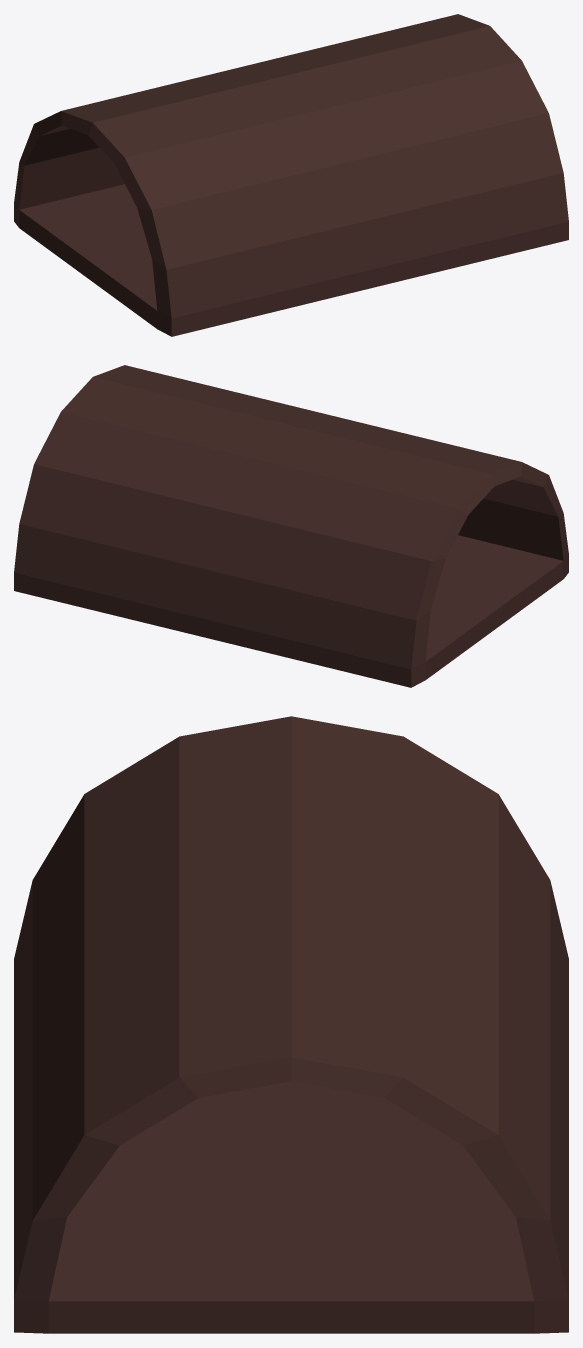
Rendered from Hangar.glb.
3 renders of one model, top to bottom at view 1: azimuth 30°, elevation 25°; view 2: azimuth 150°, elevation 25°; view 3: azimuth 270°, elevation 25°, orthographic. The views are drawn at different scales.
Parts seen in each view (by area): view 1: Cube; view 2: Cube; view 3: Cube.
Boxes of the visible parts, left/top/right/bottom form: Cube: left=14, top=14, right=568, bottom=336; Cube: left=14, top=365, right=568, bottom=687; Cube: left=14, top=716, right=568, bottom=1333.
Bounding box in the file's own units: 16.85 × 6.2 × 11.33.
